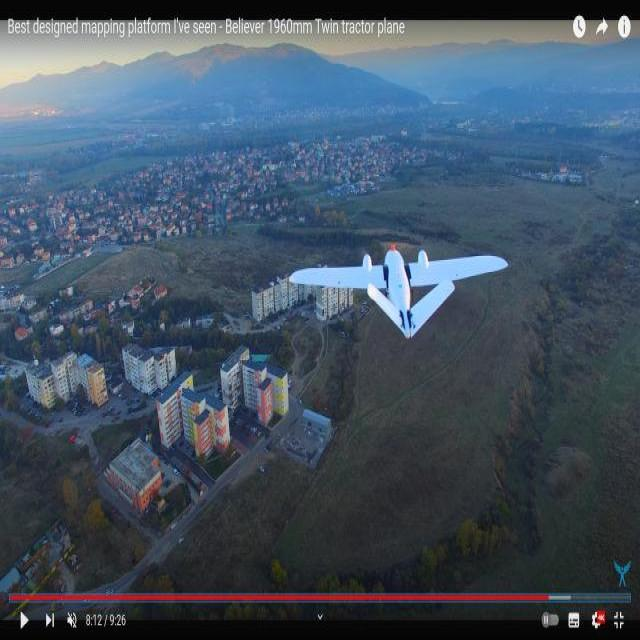iha: (286, 217, 520, 347)
